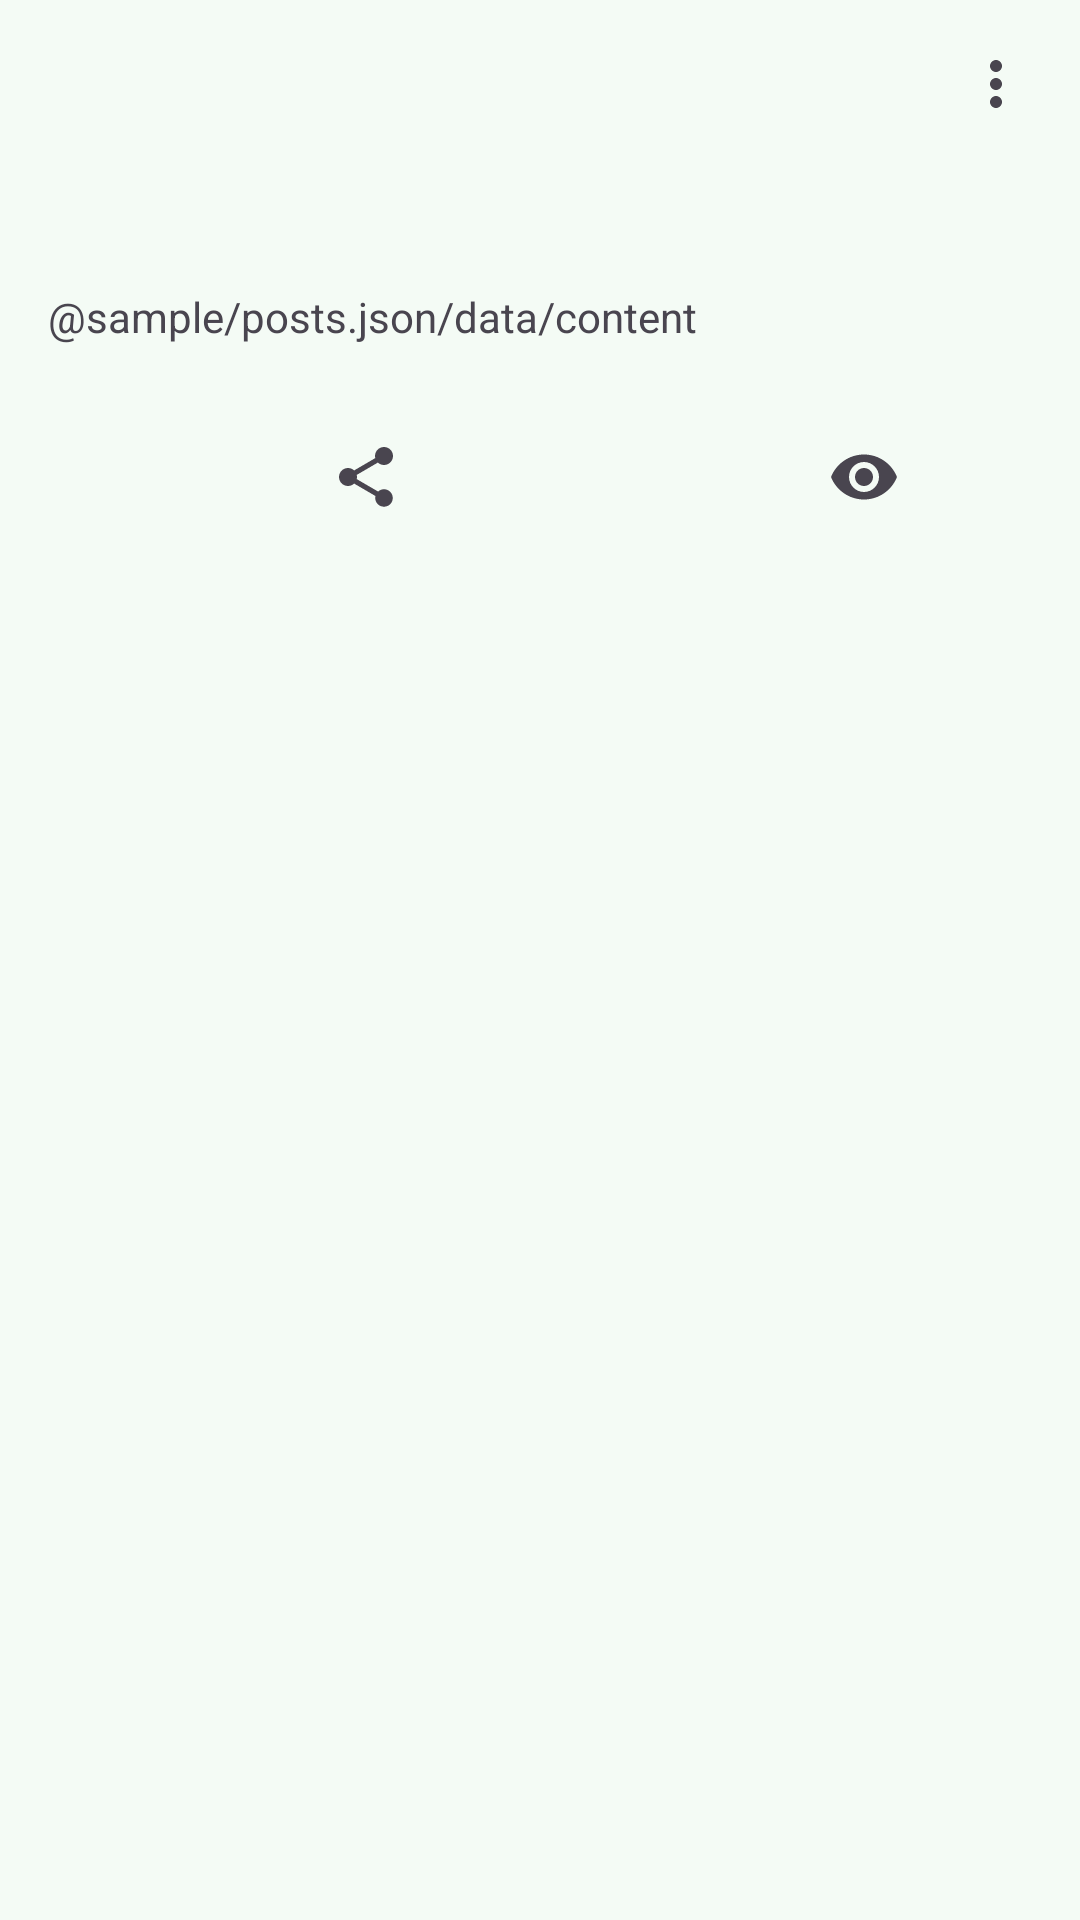

Screen size 1080x1920. Icon name, then its box in pixels as (x1, y1, x2, y2):
It viewed: (831, 454, 897, 500)
Post menu: (990, 60, 1002, 108)
share: (339, 447, 393, 507)
